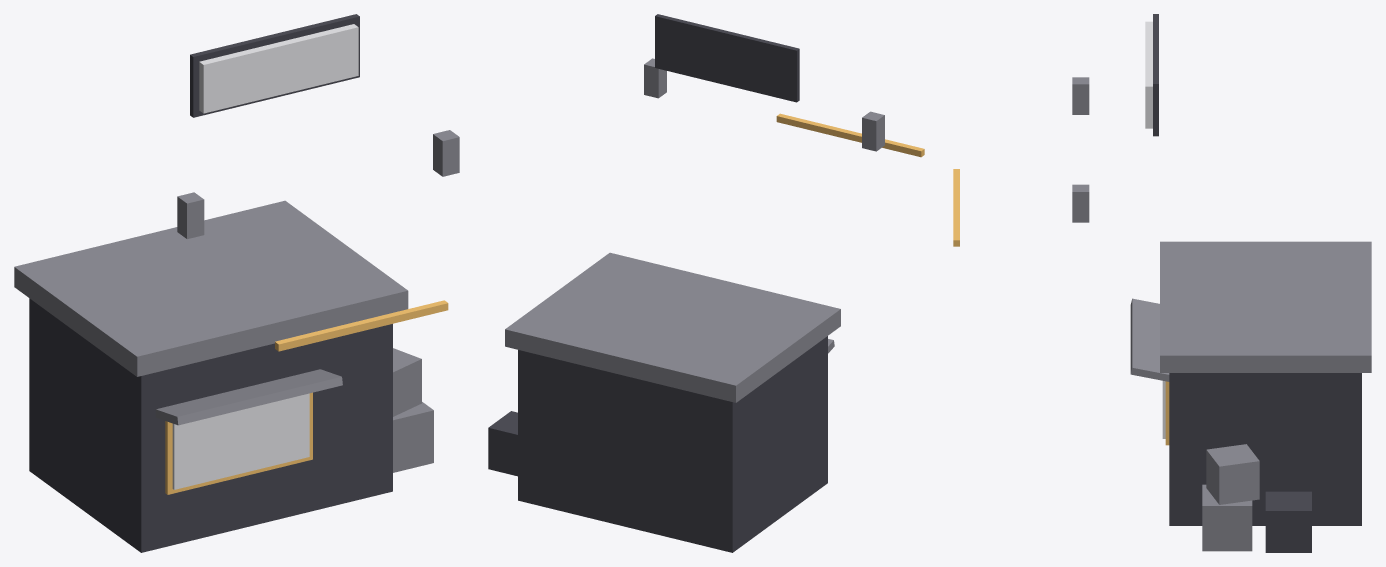
The model's file is shop_item_shop.fbx.
3 renders of one model, left to right at view 1: azimuth 30°, elevation 25°; view 2: azimuth 150°, elevation 25°; view 3: azimuth 270°, elevation 25°, orthographic. The views are drawn at different scales.
Visible parts, largest first — view 1: IS_Body__Shop_Dark, IS_Roof__Shop_Metal, IS_Window__Shop_Sign, IS_TopSign__Shop_Sign, IS_Awning__Shop_Metal, IS_TopSignFrame__Shop_Dark, IS_Crate1__Shop_Metal, IS_AwningEdge__Shop_Neon, IS_Crate2__Shop_Metal, IS_WindowFrame__Shop_Neon, IS_TopSignPole__Shop_Metal, IS_TopSignPole2__Shop_Metal; view 2: IS_Body__Shop_Dark, IS_Roof__Shop_Metal, IS_TopSignFrame__Shop_Dark, IS_Crate3__Shop_Dark, IS_AwningEdge__Shop_Neon, IS_TopSignPole__Shop_Metal, IS_TopSignPole2__Shop_Metal; view 3: IS_Roof__Shop_Metal, IS_Body__Shop_Dark, IS_Crate3__Shop_Dark, IS_Crate2__Shop_Metal, IS_Crate1__Shop_Metal, IS_Awning__Shop_Metal, IS_TopSign__Shop_Sign, IS_TopSignFrame__Shop_Dark, IS_TopSignPole2__Shop_Metal, IS_TopSignPole__Shop_Metal, IS_AwningEdge__Shop_Neon.
Part boxes in pixels (bbox=[...]): IS_Body__Shop_Dark: bbox=[29, 298, 392, 552]; IS_Roof__Shop_Metal: bbox=[14, 200, 408, 376]; IS_Window__Shop_Sign: bbox=[172, 393, 309, 489]; IS_TopSign__Shop_Sign: bbox=[199, 24, 358, 113]; IS_Awning__Shop_Metal: bbox=[155, 369, 342, 425]; IS_TopSignFrame__Shop_Dark: bbox=[190, 14, 359, 117]; IS_Crate1__Shop_Metal: bbox=[393, 402, 433, 472]; IS_AwningEdge__Shop_Neon: bbox=[275, 300, 448, 351]; IS_Crate2__Shop_Metal: bbox=[393, 348, 421, 416]; IS_WindowFrame__Shop_Neon: bbox=[165, 392, 312, 494]; IS_TopSignPole__Shop_Metal: bbox=[177, 192, 204, 239]; IS_TopSignPole2__Shop_Metal: bbox=[433, 130, 459, 176]; IS_Body__Shop_Dark: bbox=[518, 336, 827, 552]; IS_Roof__Shop_Metal: bbox=[505, 252, 840, 402]; IS_TopSignFrame__Shop_Dark: bbox=[655, 14, 799, 102]; IS_Crate3__Shop_Dark: bbox=[488, 411, 517, 476]; IS_AwningEdge__Shop_Neon: bbox=[776, 113, 924, 157]; IS_TopSignPole__Shop_Metal: bbox=[862, 111, 884, 151]; IS_TopSignPole2__Shop_Metal: bbox=[644, 58, 666, 98]; IS_Roof__Shop_Metal: bbox=[1160, 241, 1371, 372]; IS_Body__Shop_Dark: bbox=[1169, 373, 1361, 525]; IS_Crate3__Shop_Dark: bbox=[1265, 491, 1311, 552]; IS_Crate2__Shop_Metal: bbox=[1206, 444, 1259, 504]; IS_Crate1__Shop_Metal: bbox=[1202, 484, 1252, 551]; IS_Awning__Shop_Metal: bbox=[1130, 298, 1169, 381]; IS_TopSign__Shop_Sign: bbox=[1145, 21, 1152, 128]; IS_TopSignFrame__Shop_Dark: bbox=[1153, 14, 1158, 136]; IS_TopSignPole2__Shop_Metal: bbox=[1072, 184, 1089, 222]; IS_TopSignPole__Shop_Metal: bbox=[1072, 77, 1089, 114]; IS_AwningEdge__Shop_Neon: bbox=[953, 169, 959, 246].
Size of the model in its own units: 16.84 by 24.3 by 21.73.
